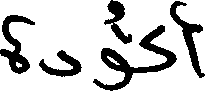أ: (172, 0, 203, 79)
ة: (0, 12, 29, 74)
د: (39, 48, 80, 77)
ك: (139, 21, 175, 73)
و: (91, 45, 130, 89)
